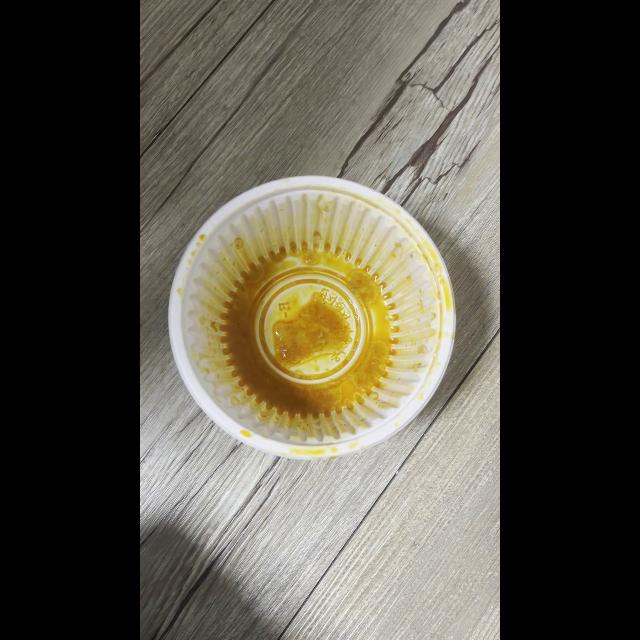dirty: (168, 178, 456, 452)
